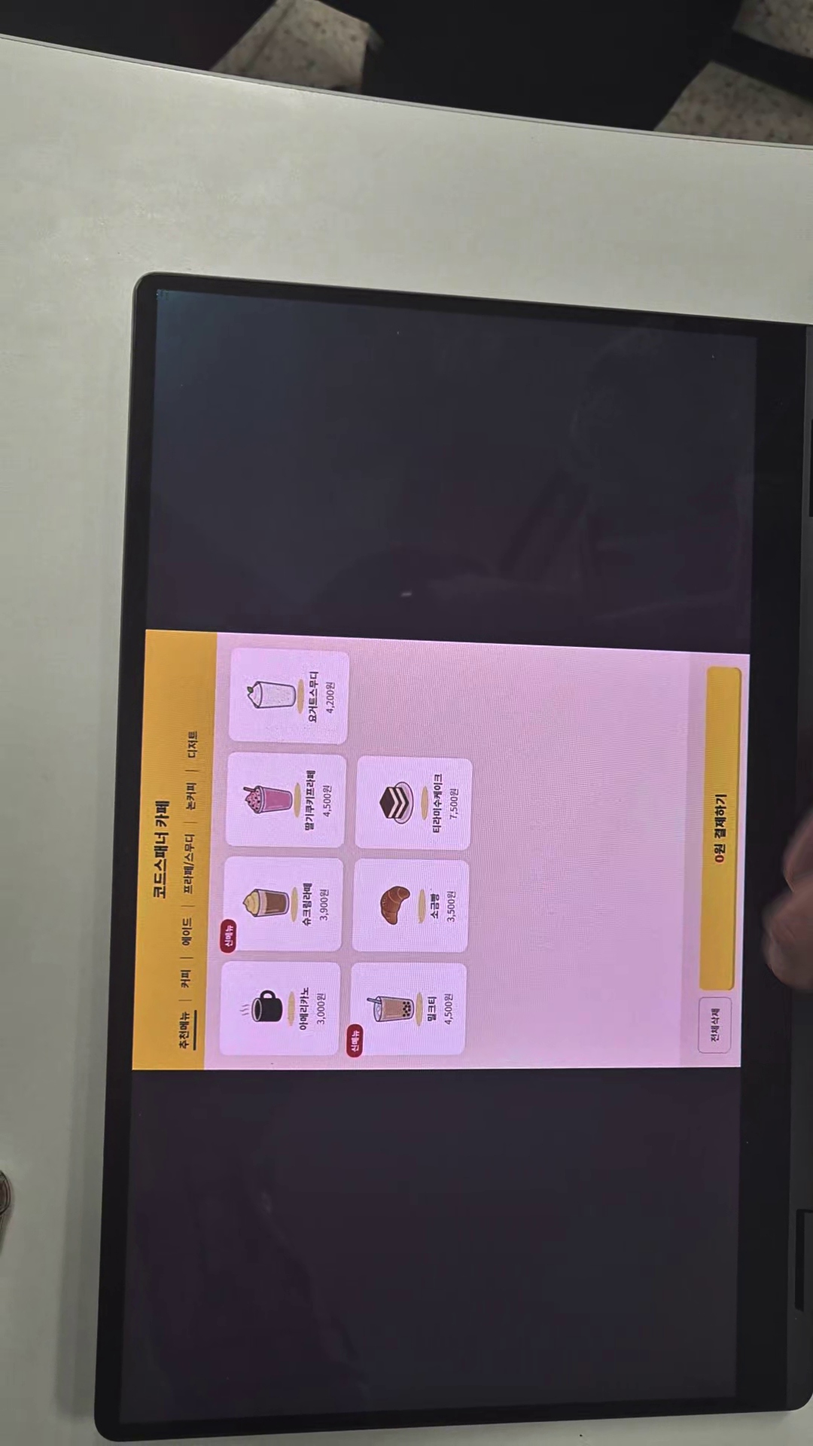action_button: (699, 665, 736, 989), (697, 996, 732, 1054)
category_tab: (180, 830, 195, 896), (176, 1010, 192, 1054), (183, 727, 199, 763), (177, 966, 193, 996), (183, 783, 197, 815), (180, 914, 194, 946)
menu_back: (228, 649, 351, 747), (222, 856, 343, 953), (220, 959, 340, 1055), (227, 753, 348, 848), (350, 959, 469, 1054), (355, 755, 471, 850), (354, 859, 470, 952)
menu_name: (428, 768, 446, 840), (304, 663, 322, 724), (304, 762, 319, 835), (300, 879, 314, 930), (422, 991, 438, 1028), (299, 983, 310, 1034), (427, 889, 441, 924)
menu_price: (445, 886, 461, 929), (314, 987, 330, 1027), (320, 781, 337, 818), (325, 680, 339, 717), (318, 887, 332, 924), (443, 988, 455, 1029), (448, 782, 459, 822)
